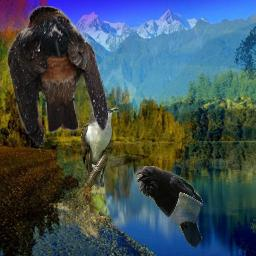Crow: (135, 166, 203, 249)
Cuckoo: (81, 101, 119, 216)
Swallow: (7, 6, 110, 147)
